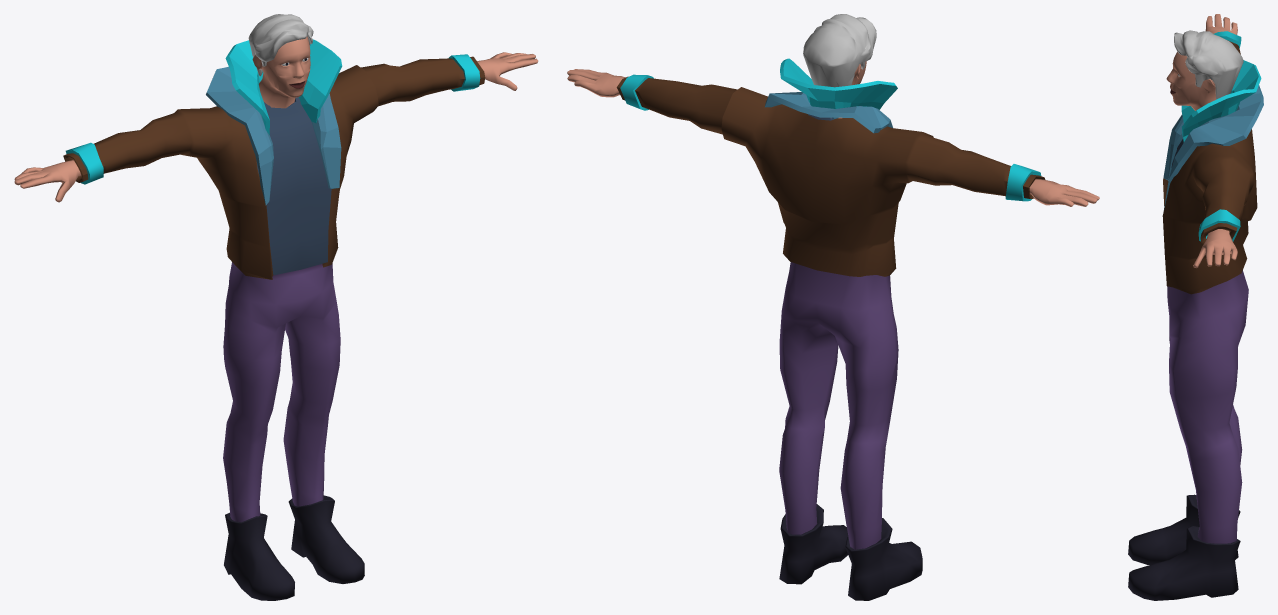
File: Human.fbx
3 views of the same model, side by side, from view 1: azimuth 30°, elevation 25°; view 2: azimuth 150°, elevation 25°; view 3: azimuth 270°, elevation 25° (orthographic). The views are drawn at different scales.
Visible parts, largest first — view 1: Human, Hair; view 2: Human, Hair; view 3: Human, Hair.
Part boxes in pixels (left/top/right/bottom): Human: left=14, top=36, right=538, bottom=600; Hair: left=248, top=14, right=313, bottom=76; Human: left=567, top=58, right=1099, bottom=600; Hair: left=803, top=14, right=876, bottom=87; Human: left=1128, top=14, right=1263, bottom=600; Hair: left=1174, top=30, right=1243, bottom=99.
Bounding box in the file's own units: 179 × 181 × 41.23.
